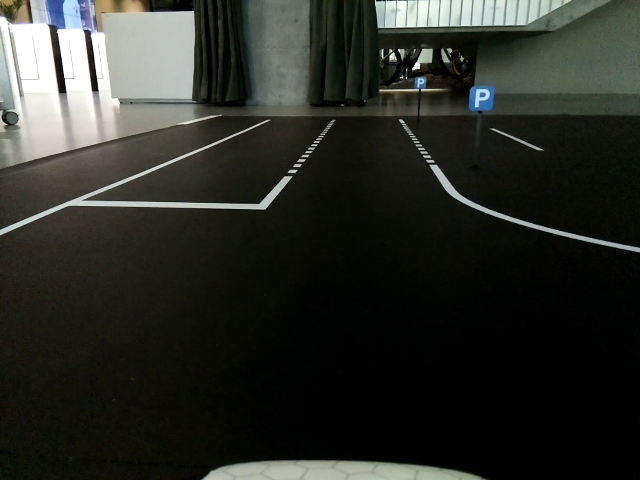park: (468, 87, 492, 112), (416, 78, 427, 88)
